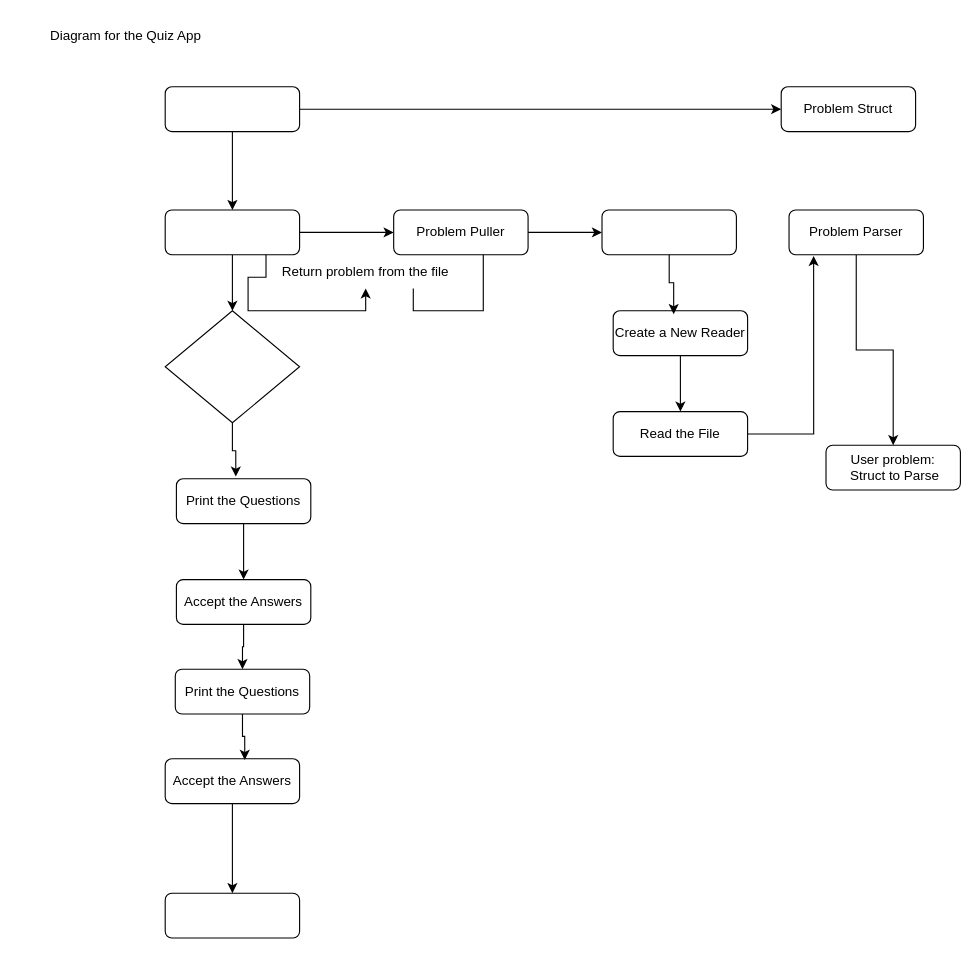
Some shapes in this 980 by 958 pixel diagram are drawn without their labels. Here are the shapes that lost their labels. From the top down, the centre of each, then its label:
the point at 232,109: Quiz.csv
the point at 232,232: Main
the point at 668,232: Open Quiz File
the point at 232,366: Loop through the Problems
the point at 232,915: Print the Result
